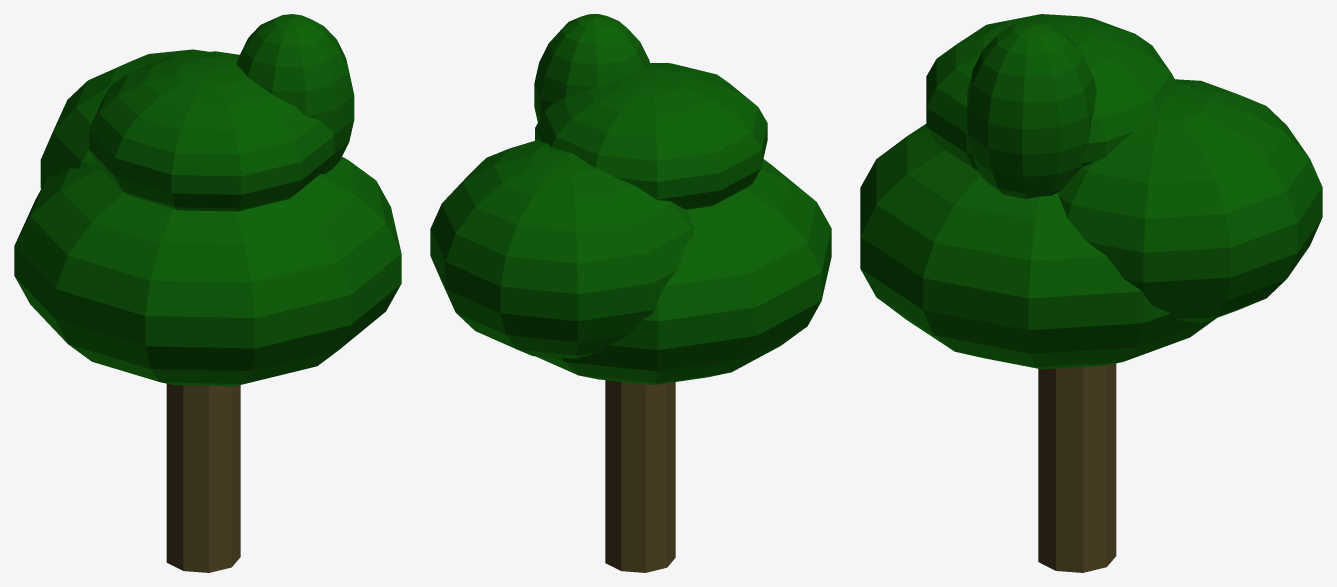
File: leafTree.glb
3 renders of one model, left to right at view 1: azimuth 30°, elevation 25°; view 2: azimuth 150°, elevation 25°; view 3: azimuth 270°, elevation 25°, orthographic. The views are drawn at different scales.
Visible parts, largest first — view 1: Sphere, Sphere.002, Cylinder, Sphere.003, Sphere.001; view 2: Sphere.001, Sphere, Sphere.002, Cylinder, Sphere.003; view 3: Sphere, Sphere.001, Sphere.003, Cylinder, Sphere.002.
Boxes of the visible parts, bbox=[...] form: Sphere: bbox=[14, 157, 401, 386]; Sphere.002: bbox=[89, 51, 333, 211]; Cylinder: bbox=[166, 383, 240, 572]; Sphere.003: bbox=[236, 14, 354, 174]; Sphere.001: bbox=[40, 49, 208, 188]; Sphere.001: bbox=[430, 140, 693, 358]; Sphere: bbox=[536, 159, 831, 384]; Sphere.002: bbox=[535, 62, 767, 209]; Cylinder: bbox=[605, 380, 675, 572]; Sphere.003: bbox=[534, 14, 649, 122]; Sphere: bbox=[860, 124, 1216, 369]; Sphere.001: bbox=[1058, 79, 1322, 323]; Sphere.003: bbox=[967, 21, 1096, 198]; Cylinder: bbox=[1038, 363, 1116, 572]; Sphere.002: bbox=[926, 14, 1177, 172].
Size of the model in its own units: 7.1 by 10.87 by 8.06.
